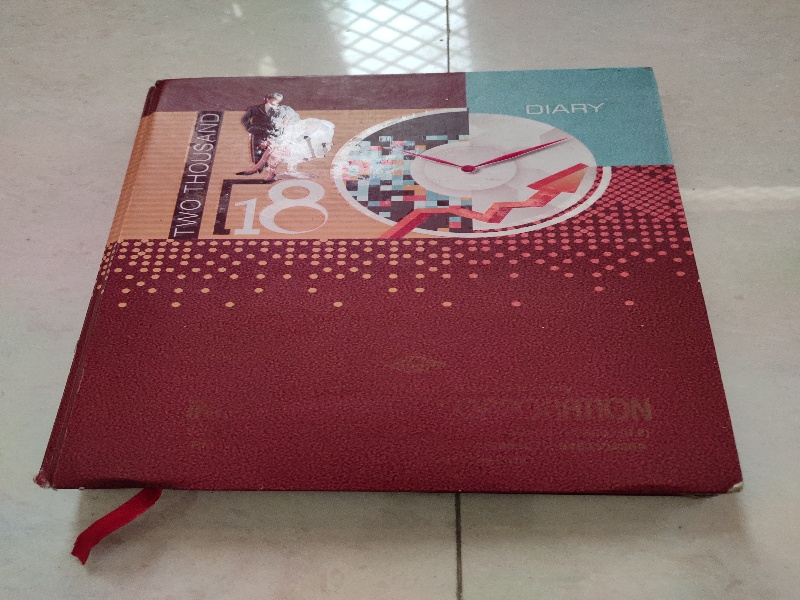diary: (27, 45, 780, 584)
